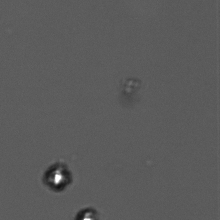Living Cell: (41, 162, 73, 192)
